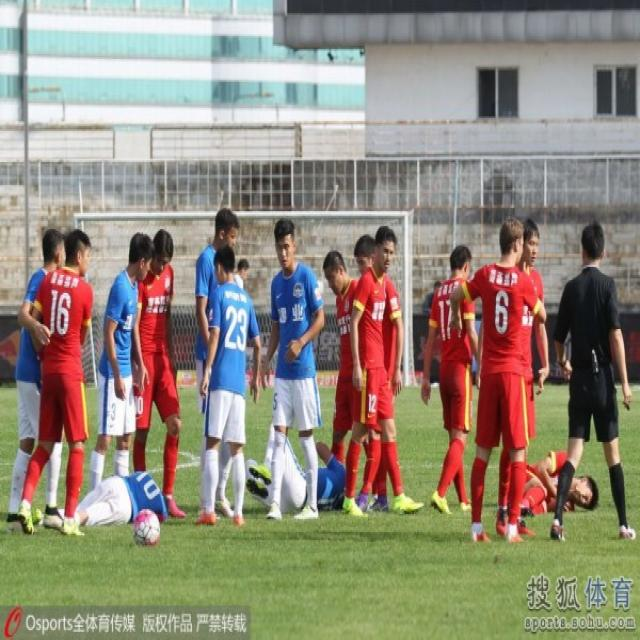10-: (2, 193, 638, 552)
down: (31, 458, 174, 545), (239, 432, 360, 529), (493, 442, 610, 537)
